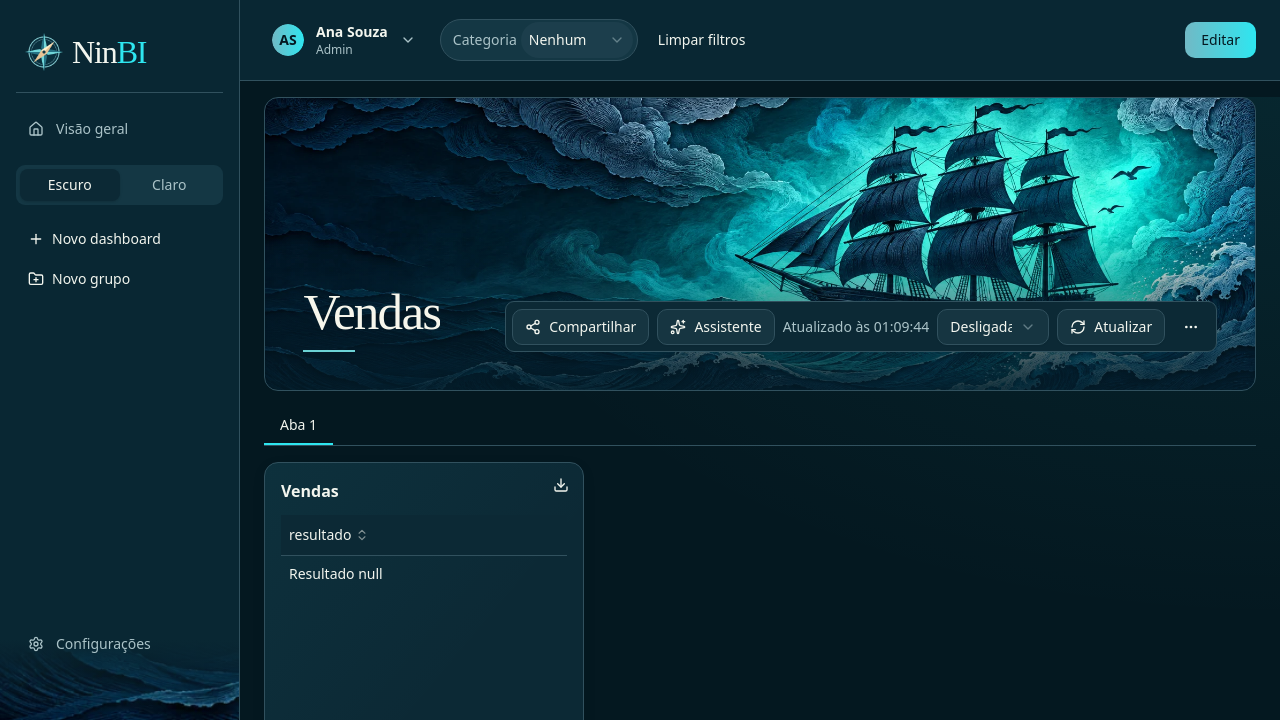
Test: filtros e execução dos widgets › FLT-27 só o resultado do valor mais recente aparece
The image size is (1280, 720).
Click the dropdown named "Categoria": x=577, y=40 [521,22,633,58]
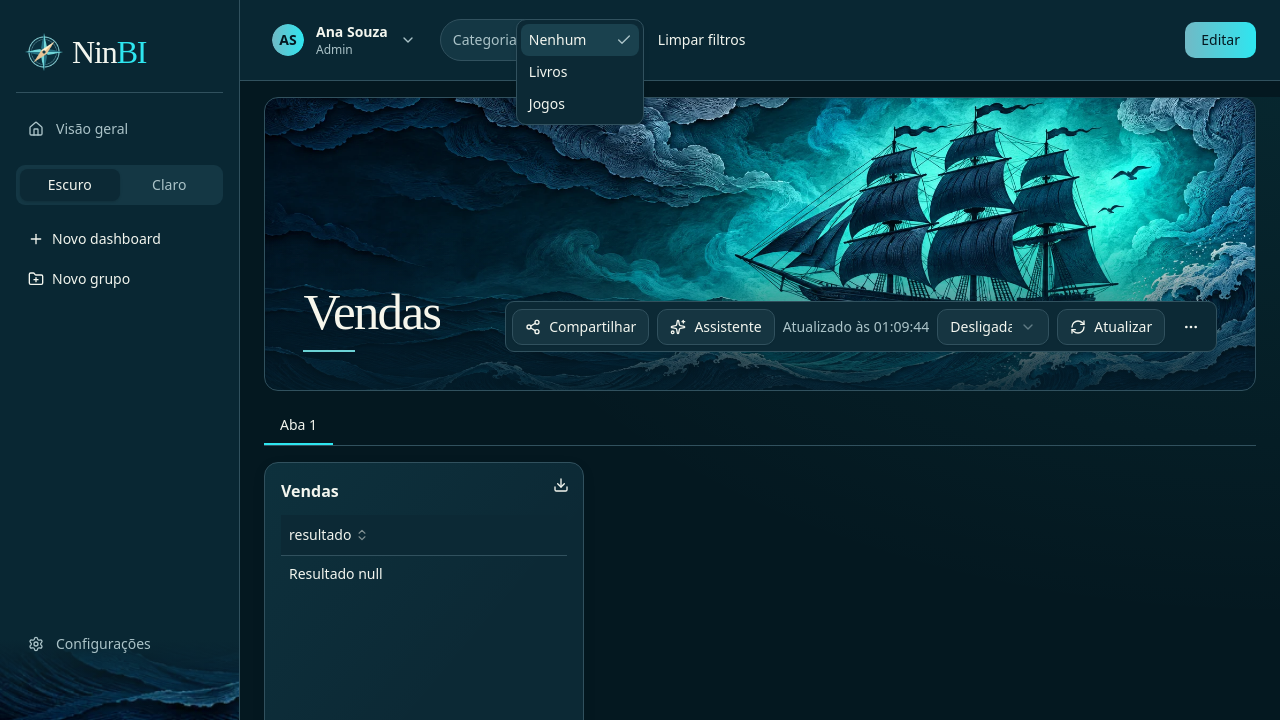
Click the option "Jogos": x=547, y=104 [529,94,565,113]
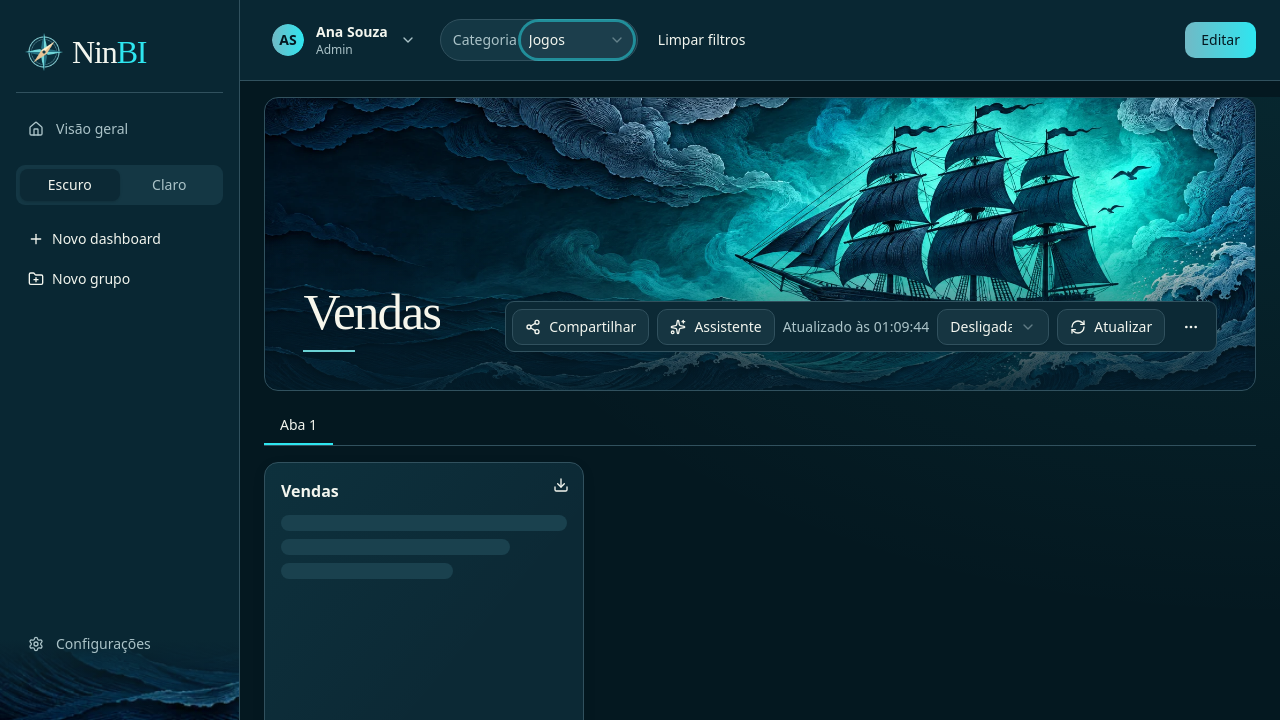
Click the dropdown named "Categoria": x=577, y=40 [521,22,633,58]
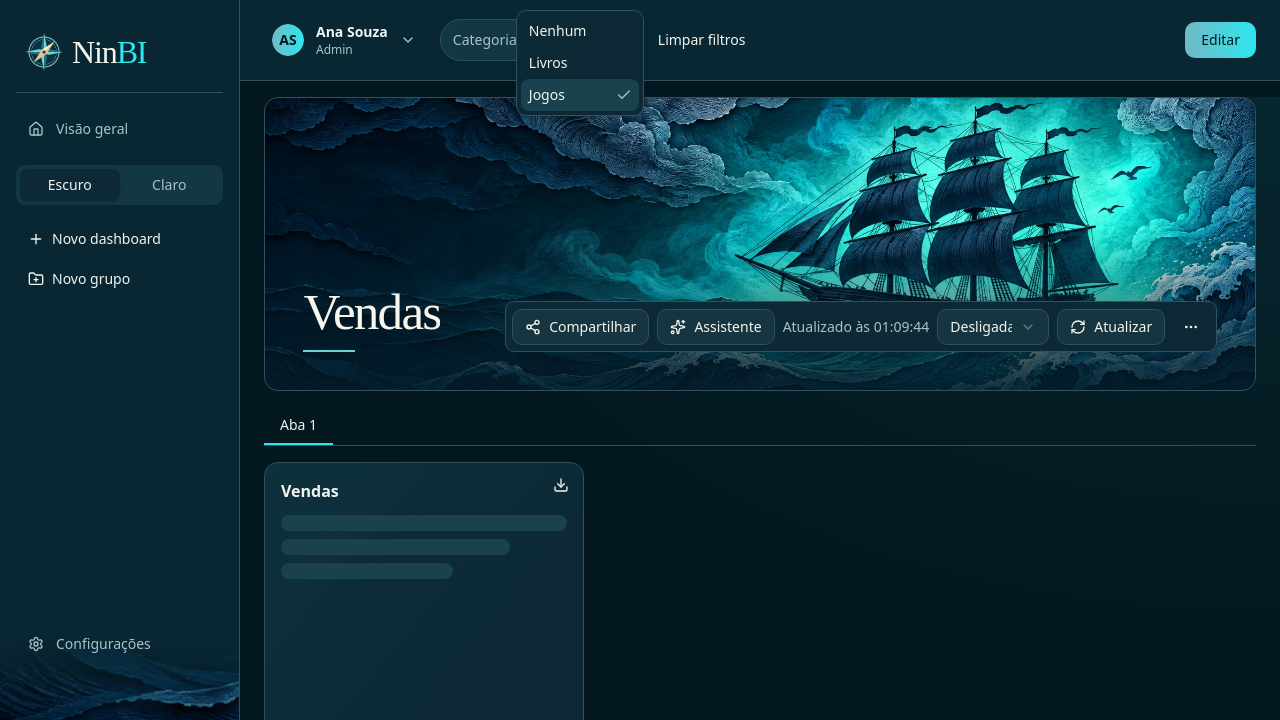
Click the option "Livros": x=548, y=62 [529,53,568,72]
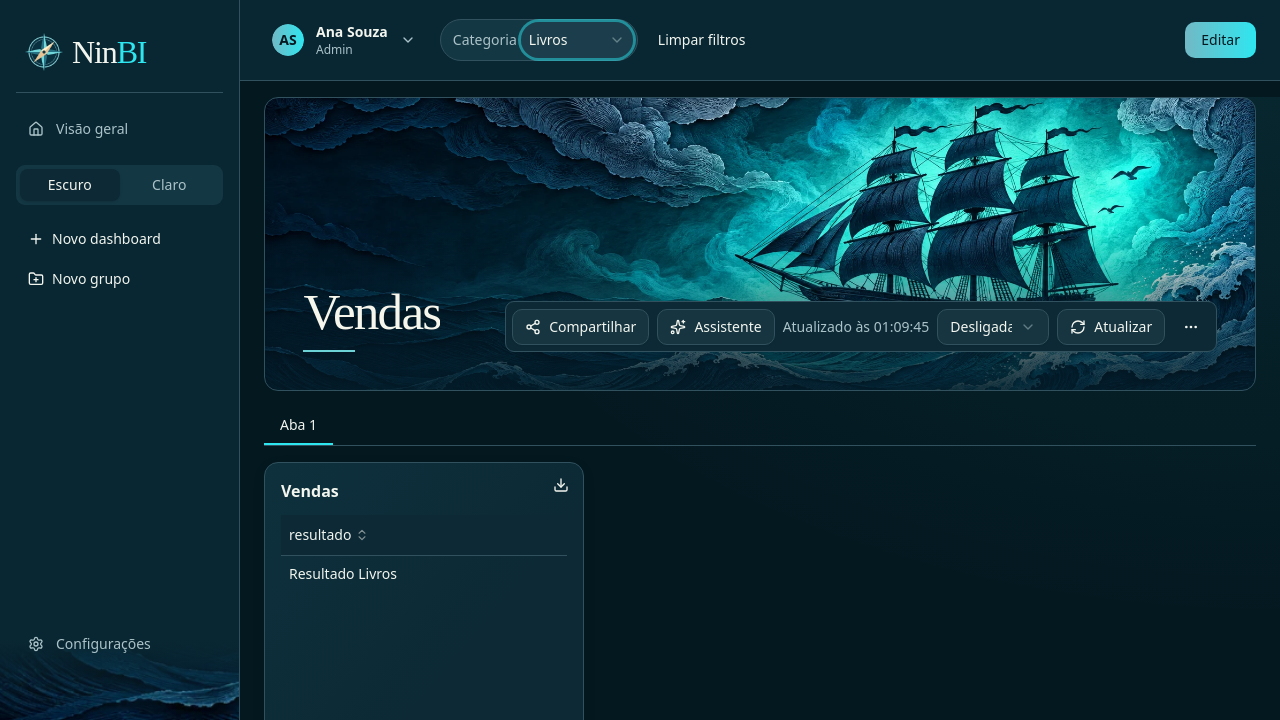
Check: the text "Resultado Livros" is shown, box [281,555,567,592]
